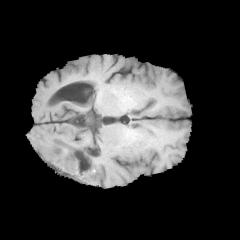glioma: (38, 138, 97, 185)
